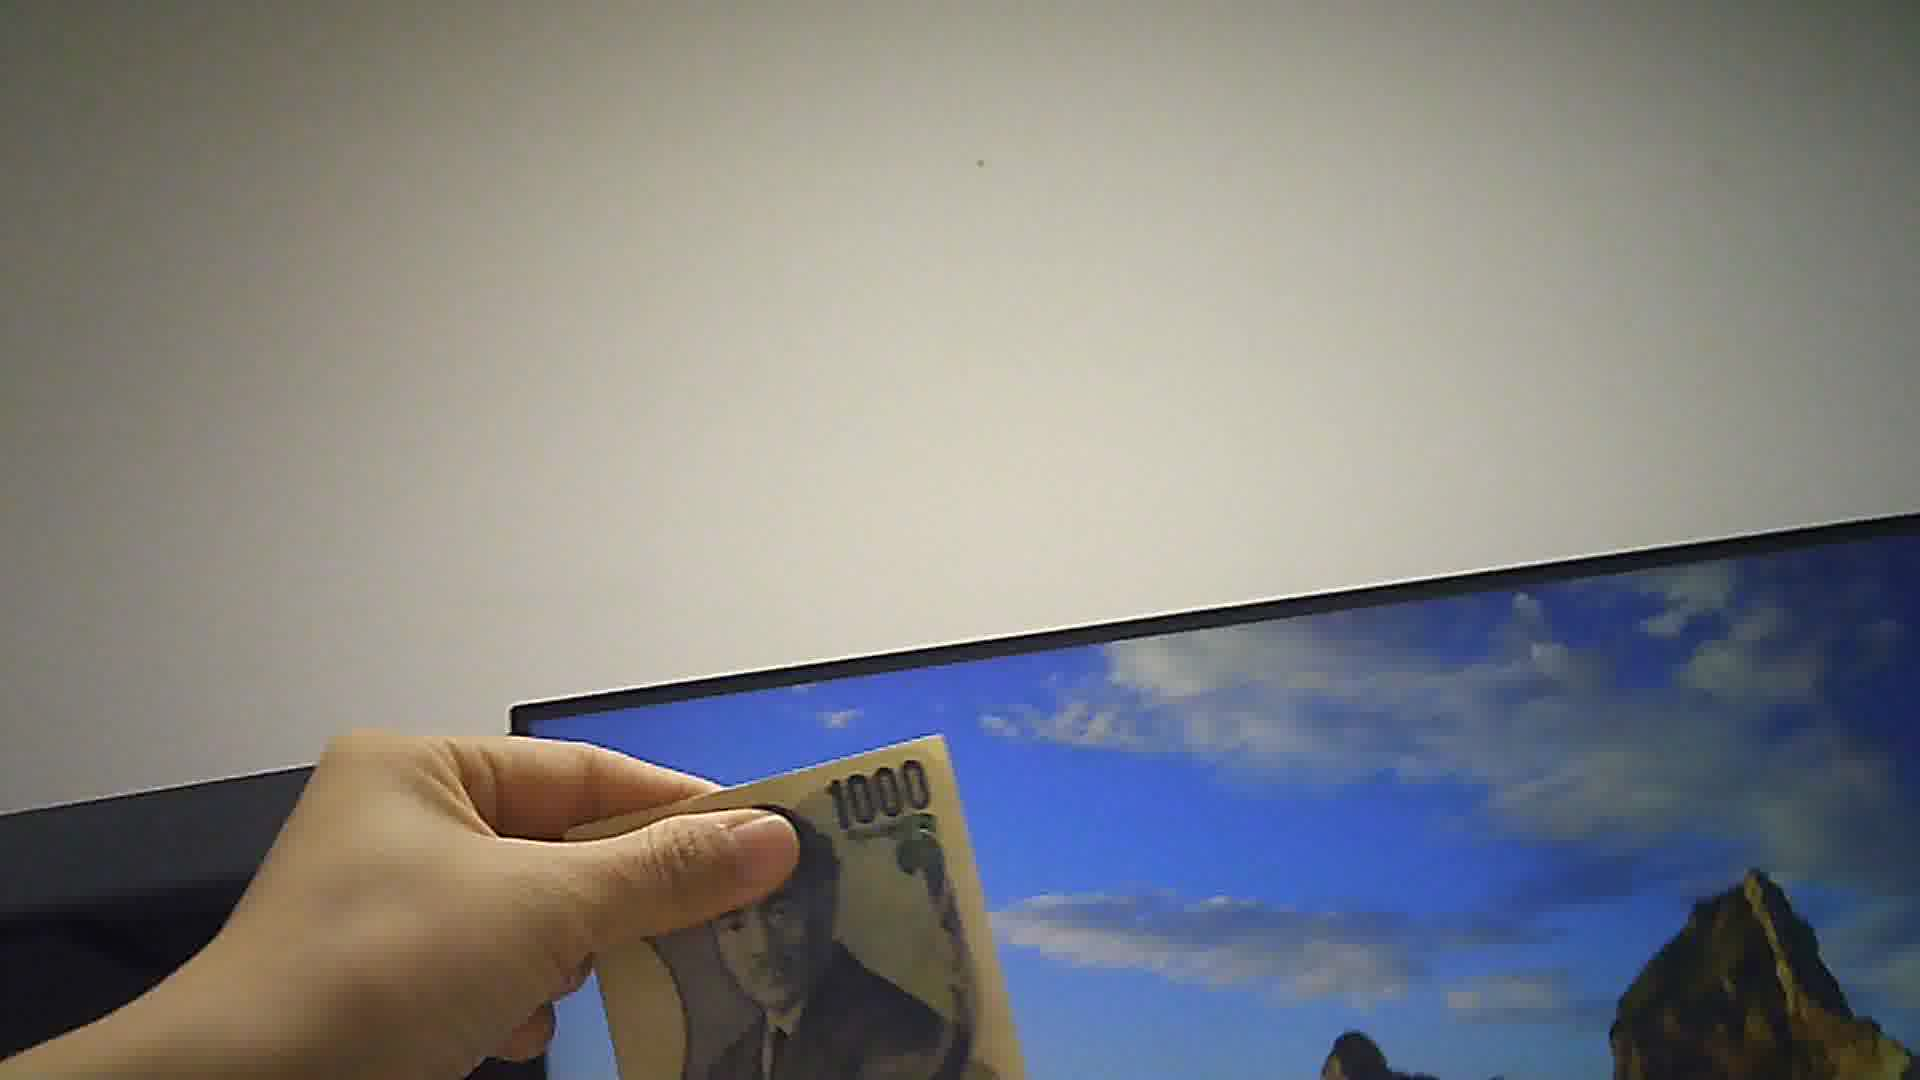1,000 Yen: (547, 735, 1031, 1079)
